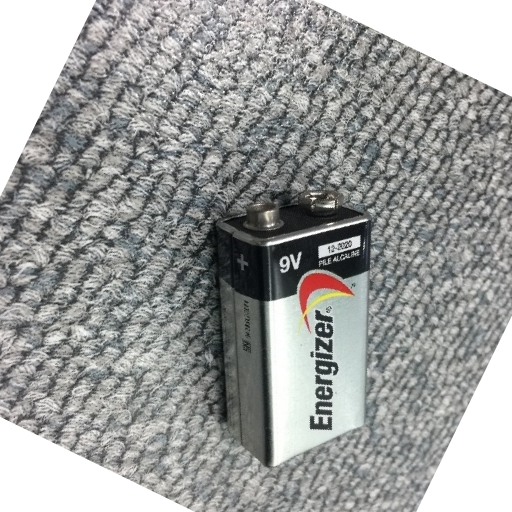Battery_3: (201, 178, 393, 471)
